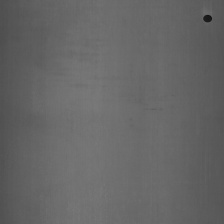punching_hole: (201, 10, 213, 24)
